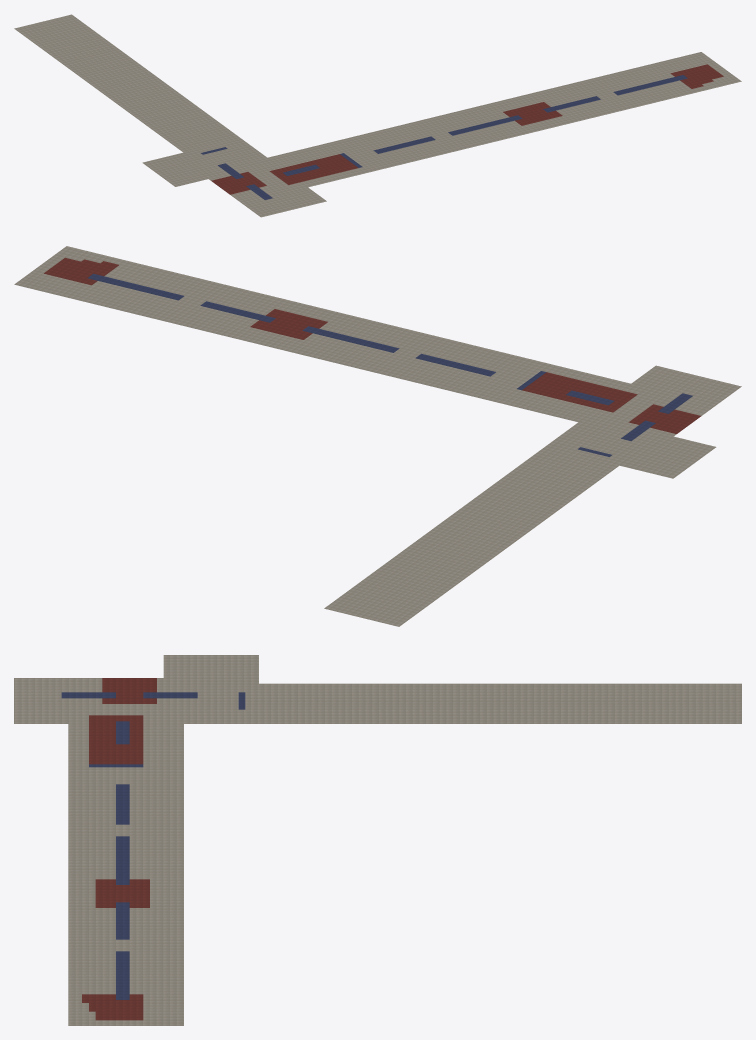
The model's file is IRGLM4thFloorFloor.fbx.
3 renders of one model, top to bottom at view 1: azimuth 30°, elevation 25°; view 2: azimuth 150°, elevation 25°; view 3: azimuth 270°, elevation 25°, orthographic. The views are drawn at different scales.
Parts seen in each view (by area): view 1: Floor; view 2: Floor; view 3: Floor.
Boxes of the visible parts, x1,y1,x2,y2 form: Floor: (14, 14, 741, 217); Floor: (14, 246, 741, 626); Floor: (14, 655, 741, 1025).
Size of the model in its own units: 3932 by 0 by 3261.
